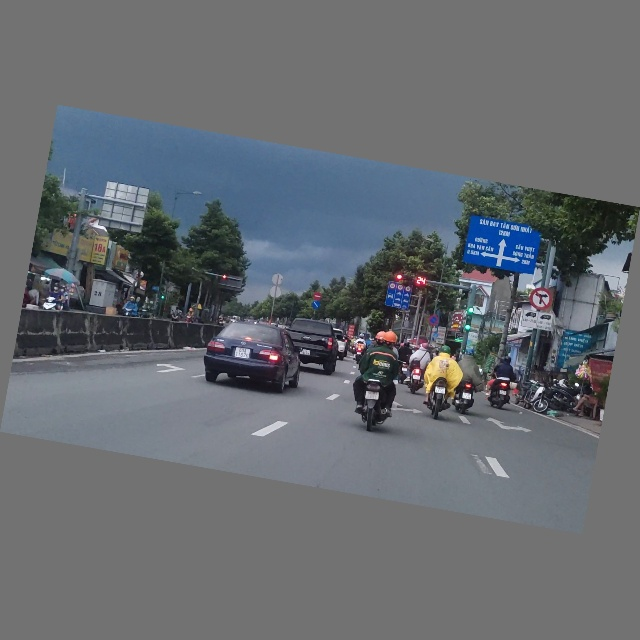P.102: (313, 292, 322, 302)
P.127*60: (396, 285, 404, 292), (389, 283, 396, 290)
P.131a: (428, 315, 440, 327)
P.137: (528, 287, 554, 312)
R.302a: (312, 301, 321, 310)
R.415a: (384, 289, 411, 311)
